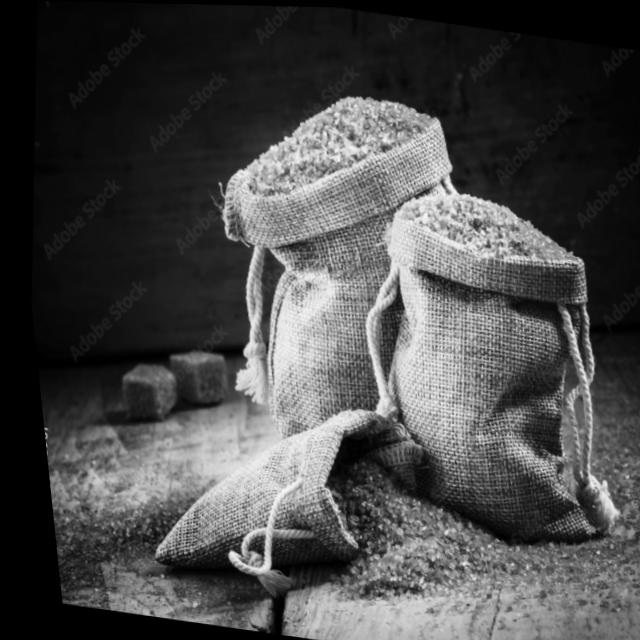sack: (320, 177, 640, 558), (180, 75, 488, 461), (125, 379, 432, 615)
